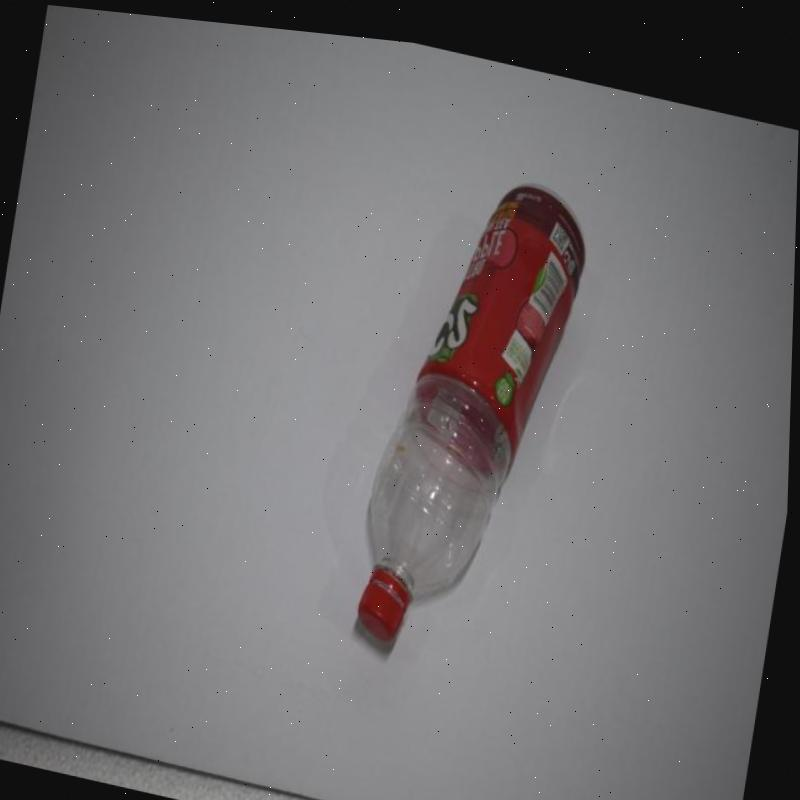botella: (353, 138, 597, 664)
